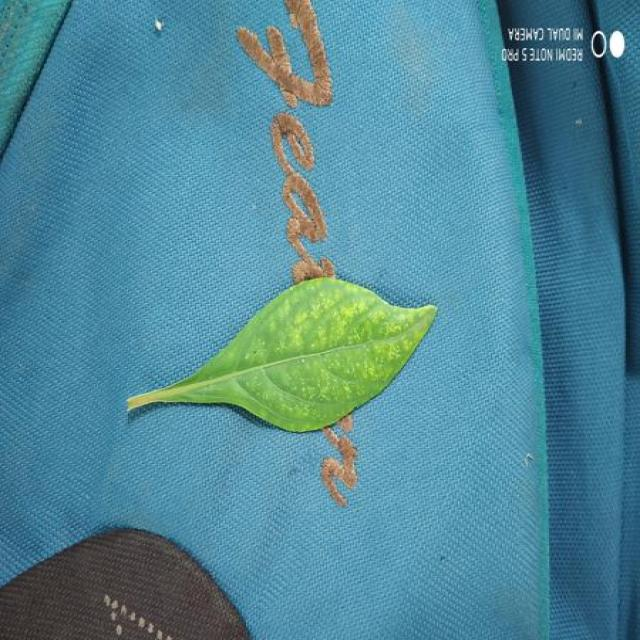Nelavembu: (127, 279, 437, 432)
